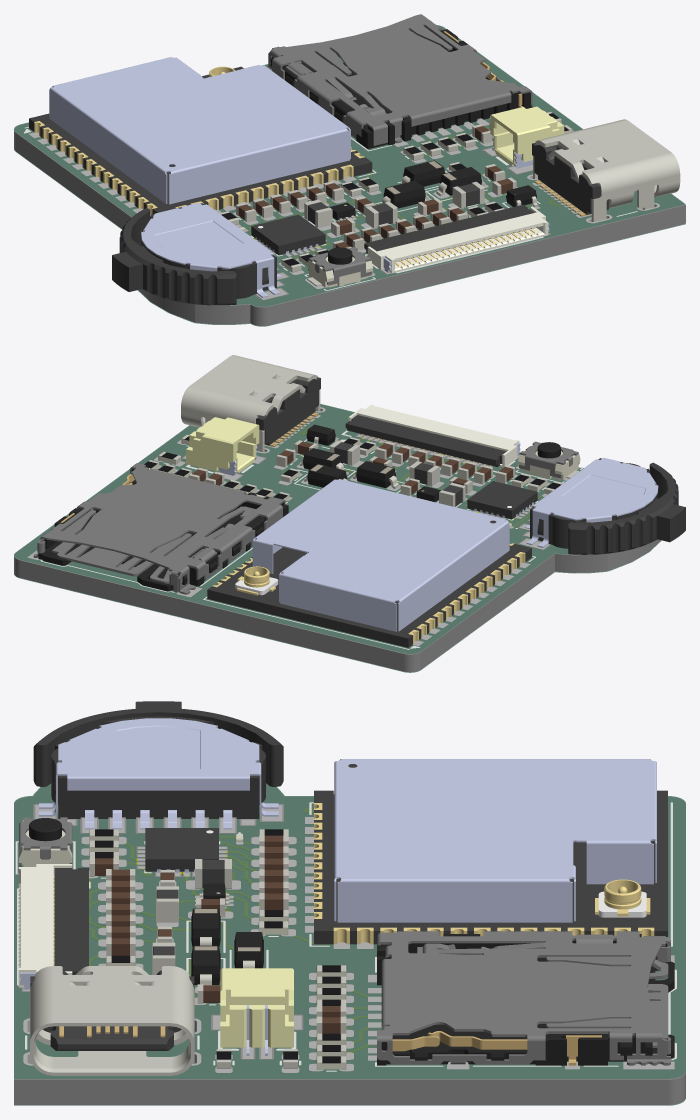
3 renders of one model, top to bottom at view 1: azimuth 30°, elevation 25°; view 2: azimuth 150°, elevation 25°; view 3: azimuth 270°, elevation 25°, orthographic. The views are drawn at different scales.
Parts seen in each view (by area): view 1: U1, =>[0:1:1:22], J6, =>[0:1:1:21], S1, J2, J1, =>[0:1:1:18], J3, SW1, U2, =>[0:1:1:20] (+7 smaller); view 2: U1, =>[0:1:1:22], J6, =>[0:1:1:21], S1, J2, J1, J3, =>[0:1:1:18], SW1, U2, =>[0:1:1:20] (+7 smaller); view 3: U1, =>[0:1:1:22], J6, =>[0:1:1:21], S1, J2, =>[0:1:1:18], J1, J3, U2, SW1, =>[0:1:1:20] (+7 smaller).
Part boxes in pixels (bbox=[...]): U1: bbox=[29, 57, 372, 214]; =>[0:1:1:22]: bbox=[14, 26, 685, 325]; J6: bbox=[267, 14, 532, 148]; =>[0:1:1:21]: bbox=[14, 25, 685, 326]; S1: bbox=[112, 202, 282, 305]; J2: bbox=[532, 119, 680, 221]; J1: bbox=[364, 204, 549, 273]; =>[0:1:1:18]: bbox=[28, 117, 659, 300]; J3: bbox=[490, 106, 564, 168]; SW1: bbox=[307, 247, 373, 287]; U2: bbox=[251, 214, 325, 255]; =>[0:1:1:20]: bbox=[24, 126, 637, 290]; U1: bbox=[207, 479, 531, 647]; =>[0:1:1:22]: bbox=[14, 405, 660, 672]; J6: bbox=[33, 463, 288, 594]; =>[0:1:1:21]: bbox=[14, 404, 661, 672]; S1: bbox=[524, 457, 685, 554]; J2: bbox=[181, 355, 320, 452]; J1: bbox=[345, 404, 520, 467]; J3: bbox=[186, 417, 259, 475]; =>[0:1:1:18]: bbox=[27, 407, 569, 646]; SW1: bbox=[518, 441, 580, 480]; U2: bbox=[467, 481, 537, 519]; =>[0:1:1:20]: bbox=[40, 430, 582, 649]; U1: bbox=[314, 759, 667, 944]; =>[0:1:1:22]: bbox=[14, 784, 685, 1104]; J6: bbox=[377, 931, 674, 1065]; =>[0:1:1:21]: bbox=[14, 783, 685, 1105]; S1: bbox=[33, 701, 283, 829]; J2: bbox=[30, 966, 194, 1075]; =>[0:1:1:18]: bbox=[23, 805, 674, 1073]; J1: bbox=[18, 864, 88, 989]; J3: bbox=[220, 968, 293, 1055]; U2: bbox=[145, 828, 218, 872]; SW1: bbox=[19, 817, 72, 866]; =>[0:1:1:20]: bbox=[15, 802, 676, 1071].
Size of the model in its own units: 0.0435 by 0.00499 by 0.0364.
